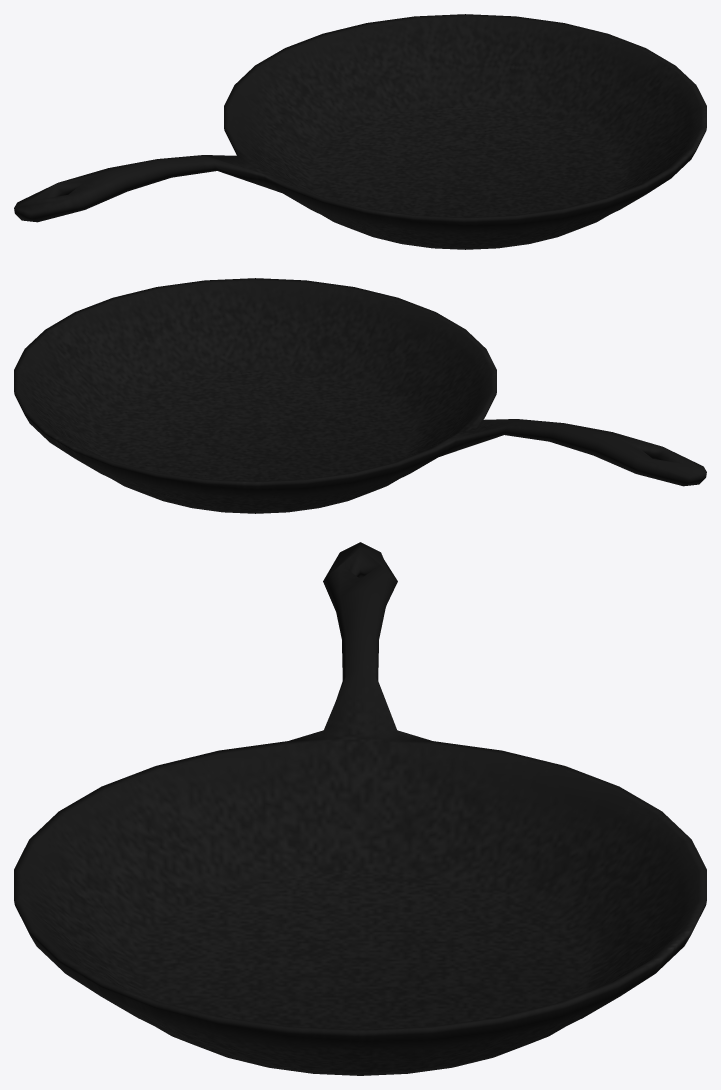
File: Pan1.fbx
The picture shows the model from 3 angles, top to bottom: view 1: azimuth 30°, elevation 25°; view 2: azimuth 150°, elevation 25°; view 3: azimuth 270°, elevation 25°; orthographic projection. The views are drawn at different scales.
Visible parts, largest first — view 1: skillet; view 2: skillet; view 3: skillet.
Part boxes in pixels (box(x1,y1,x2,y2)): skillet: box(14, 14, 706, 249); skillet: box(14, 278, 706, 513); skillet: box(14, 542, 706, 1075).
Bounding box in the file's own units: 381 × 54.14 × 241.
1 material, 1 textured.
